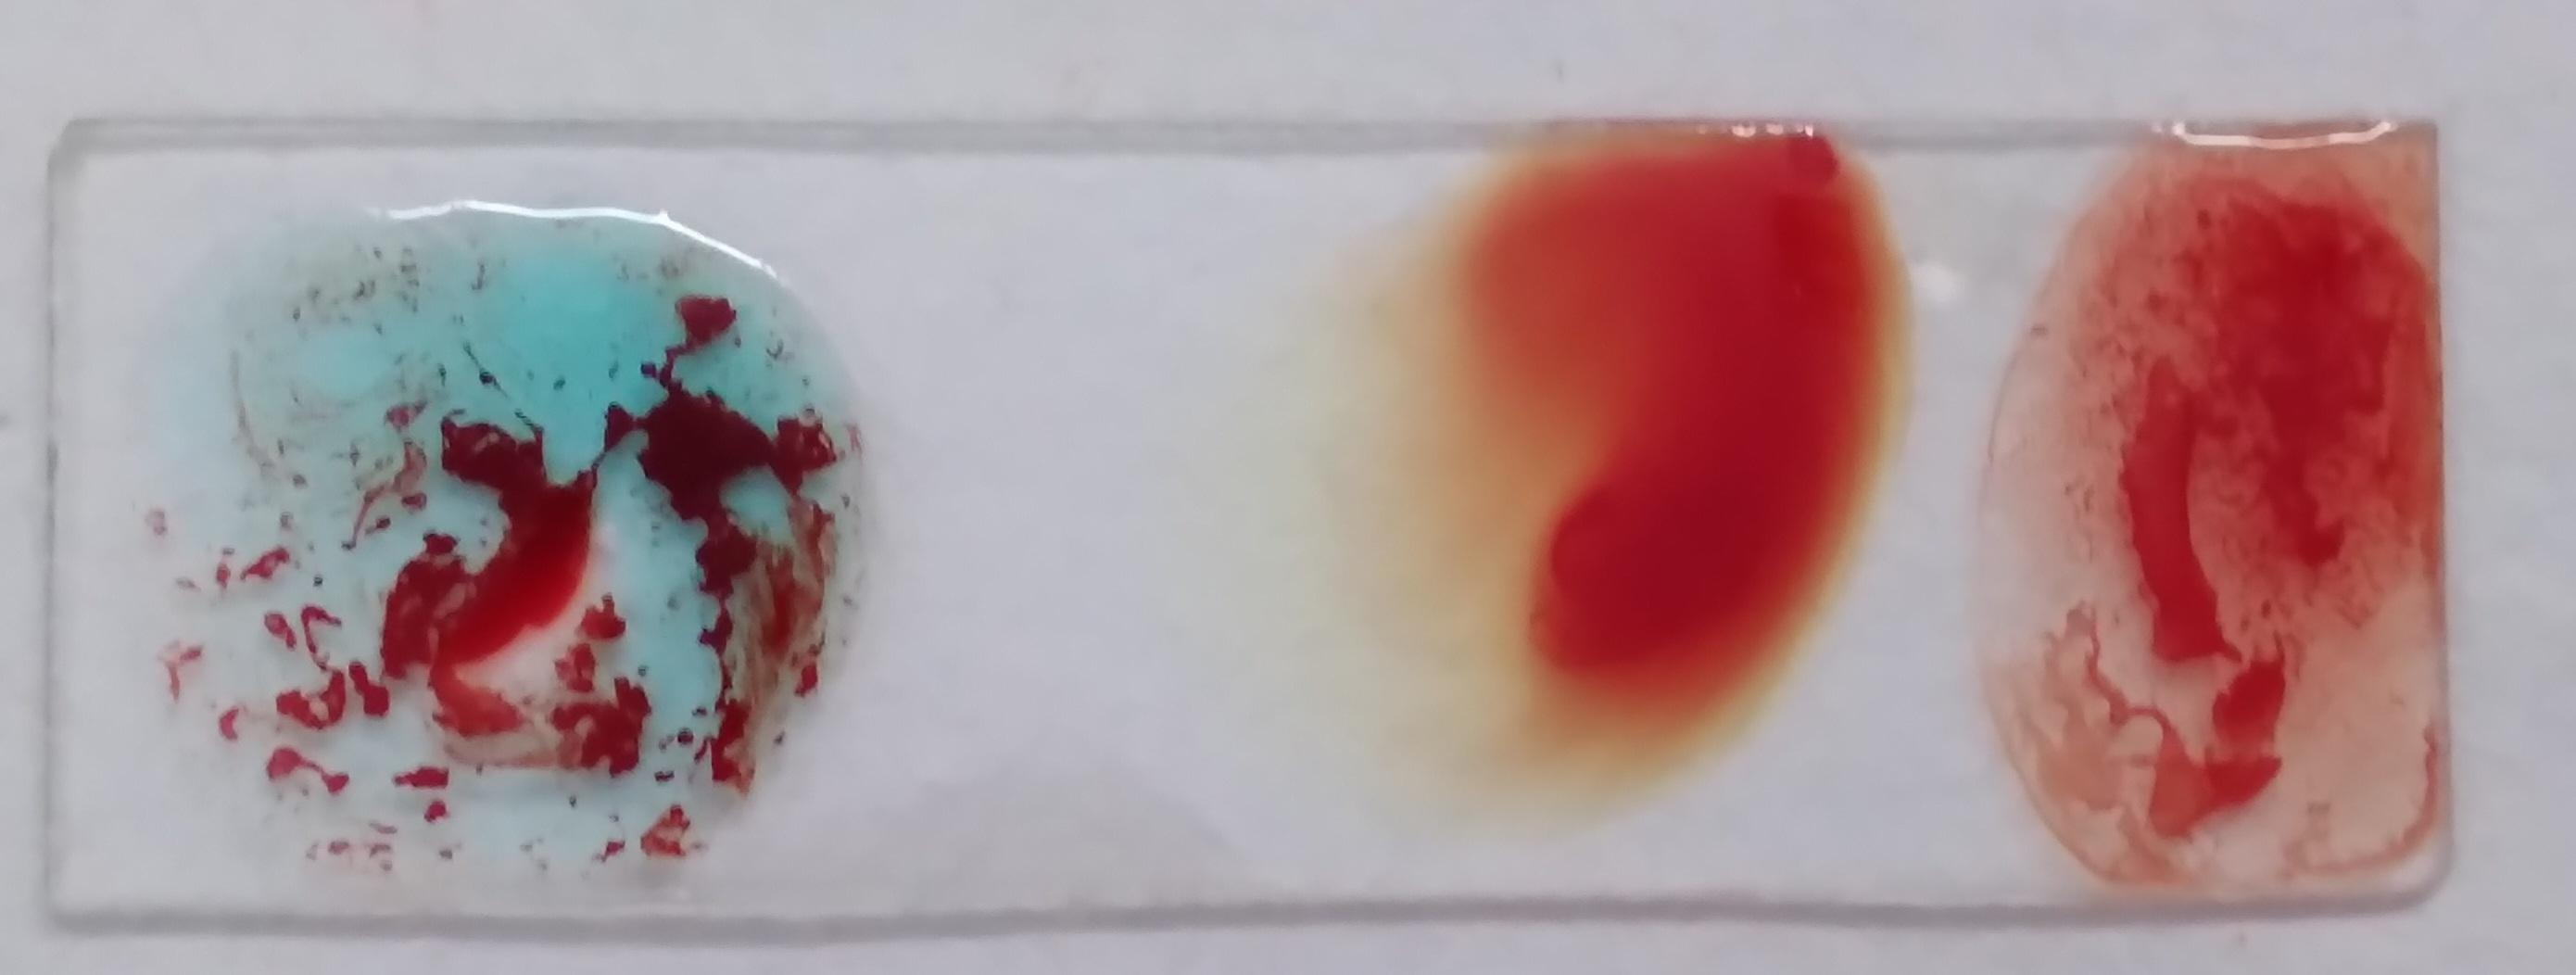A: (163, 219, 844, 890)
D: (1981, 123, 2441, 908)
